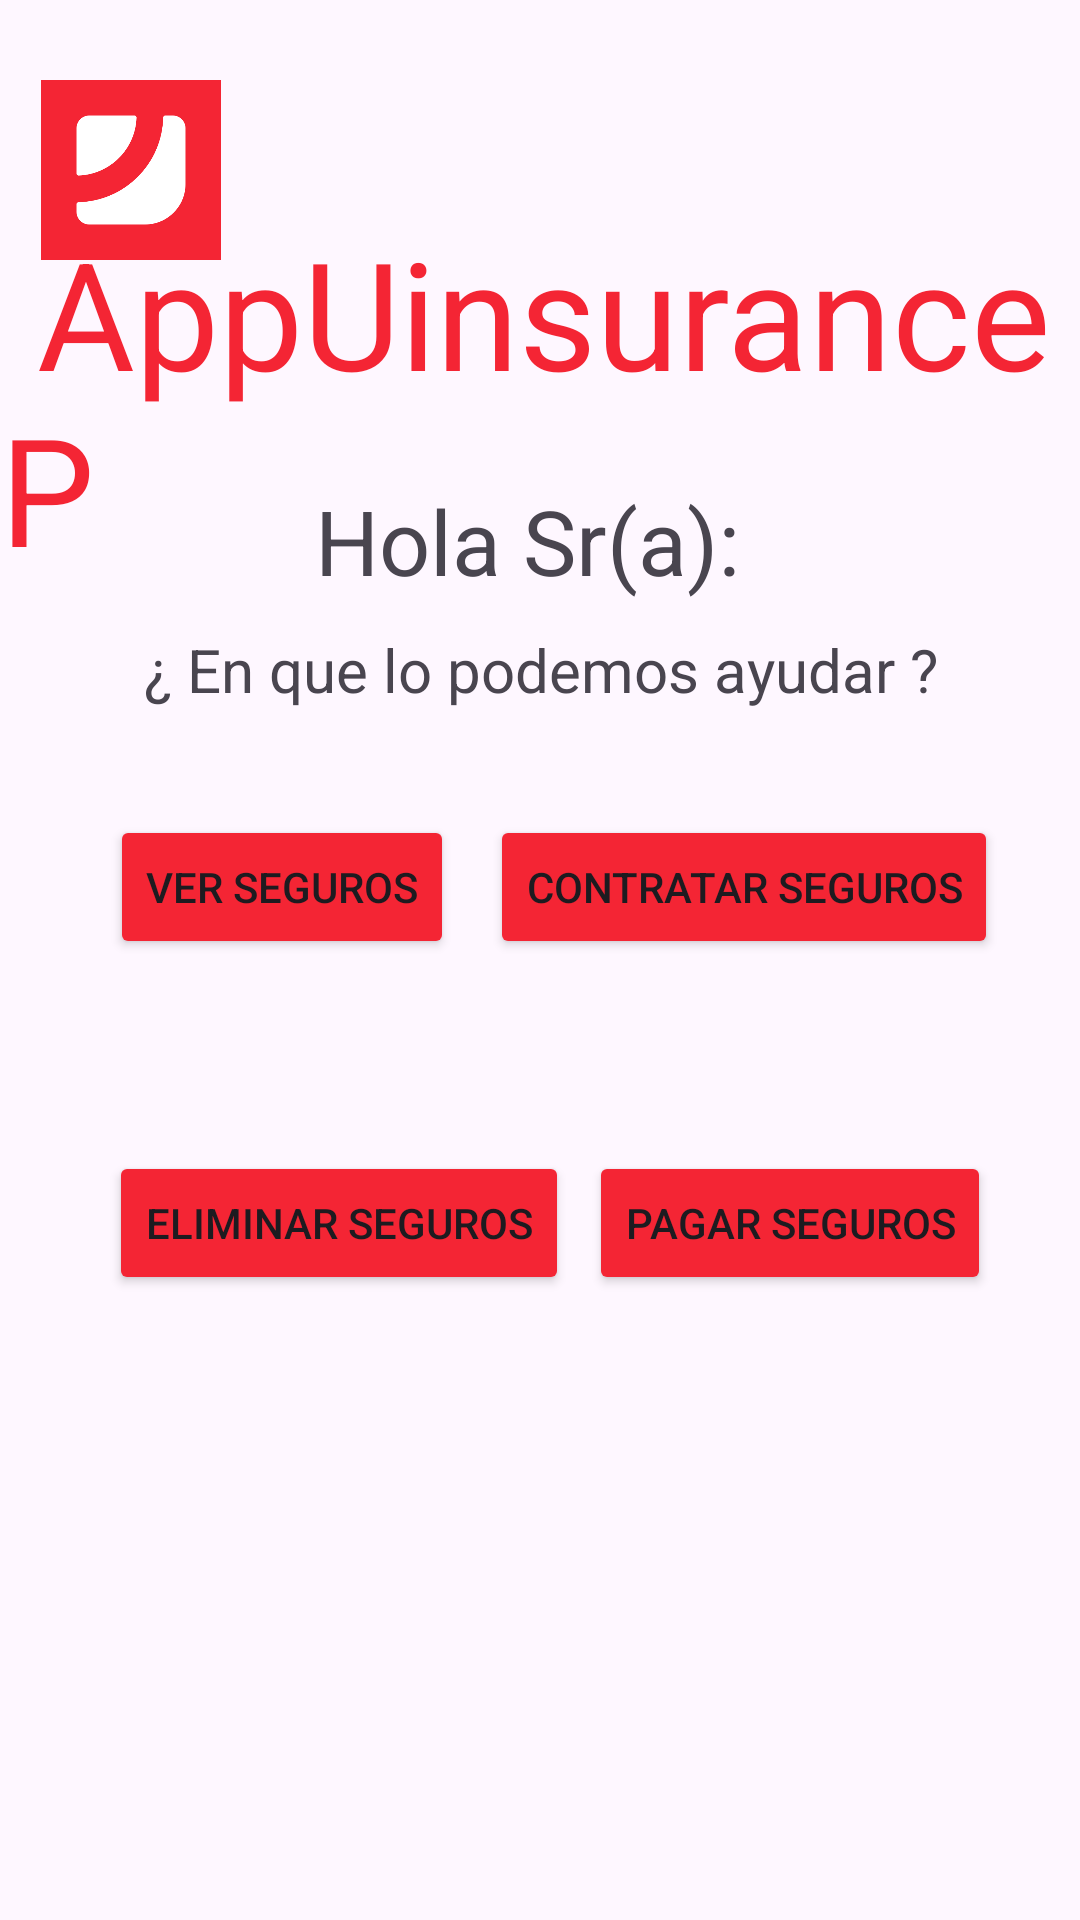

Where to tap for icons on this 1080px×1920px app screen, as (x=x, y=y):
simbolo: (x=131, y=170)
